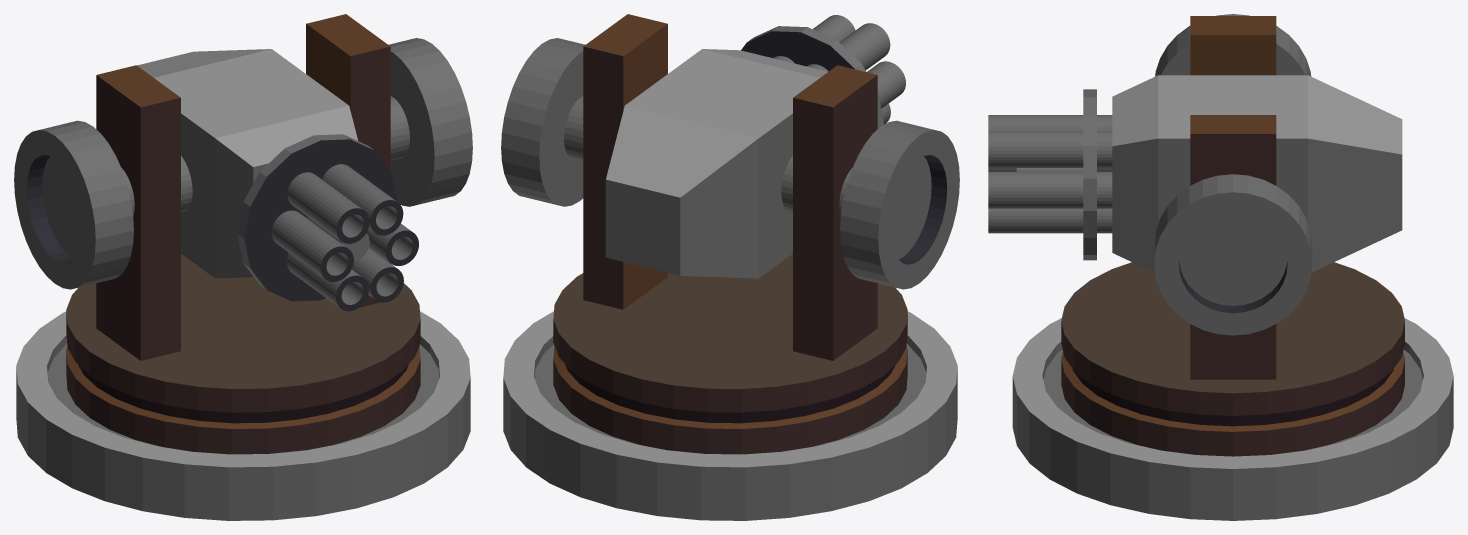
File: Turret.fbx
3 renders of one model, left to right at view 1: azimuth 30°, elevation 25°; view 2: azimuth 150°, elevation 25°; view 3: azimuth 270°, elevation 25°, orthographic. The views are drawn at different scales.
Parts seen in each view (by area): view 1: Gun, TurretPivot, TurretBase; view 2: TurretPivot, Gun, TurretBase; view 3: Gun, TurretPivot, TurretBase.
Boxes of the visible parts, x1,y1,x2,y2 form: Gun: (14, 38, 472, 311); TurretPivot: (66, 14, 420, 454); TurretBase: (16, 311, 470, 520); TurretPivot: (553, 14, 907, 454); Gun: (501, 15, 959, 289); TurretBase: (503, 311, 957, 520); Gun: (988, 14, 1402, 335); TurretPivot: (1061, 16, 1404, 456); TurretBase: (1012, 318, 1453, 520).
Size of the model in its own units: 2 by 1.77 by 2.11.
